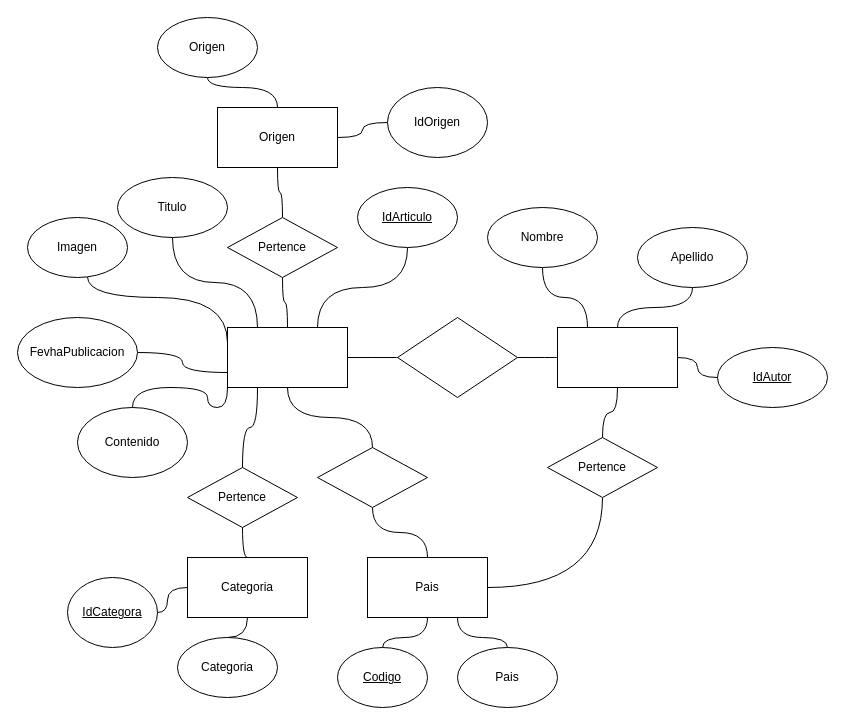
The diagram is 845 pixels wide and 725 high, and some of its shapes have lost their labels. The shapes that lost their labels are listed below. From the top down, each one's centre as x and y in pixels, then its label:
At point (287, 357): "Articulo".
At point (457, 357): "Escrito por".
At point (617, 357): "Autor".
At point (372, 477): "Desde".
